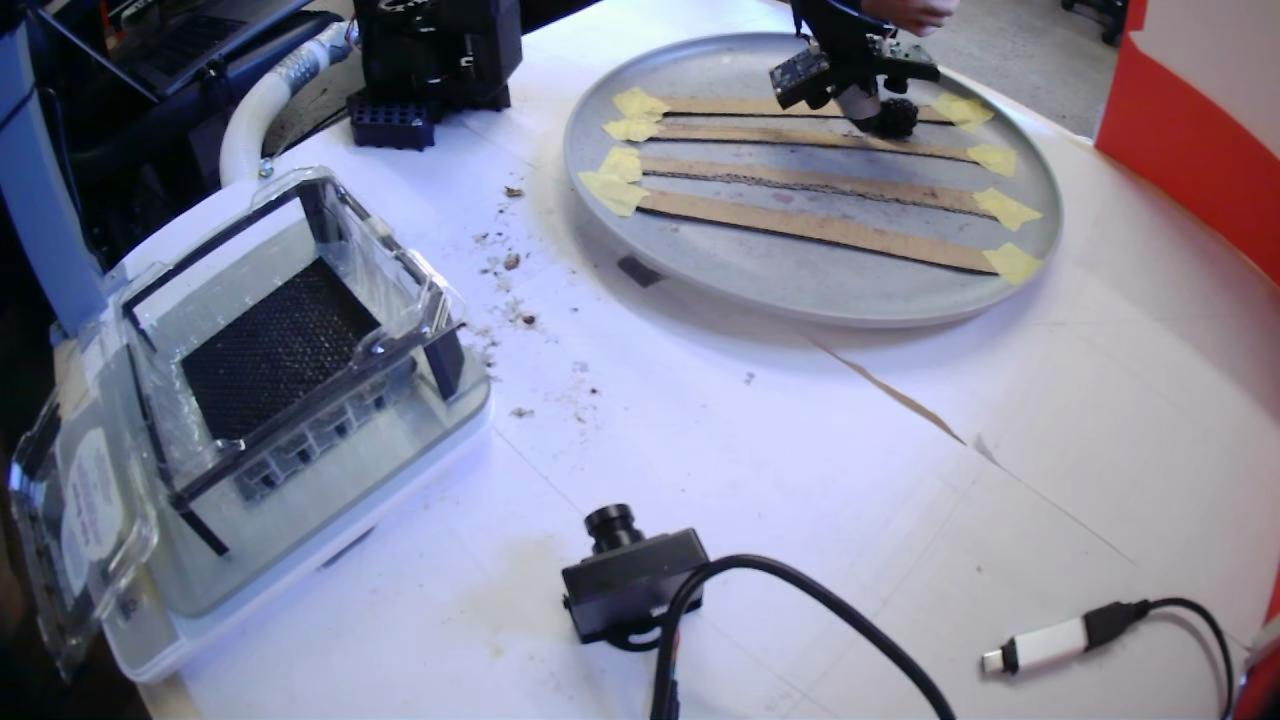berry: (852, 98, 917, 139)
